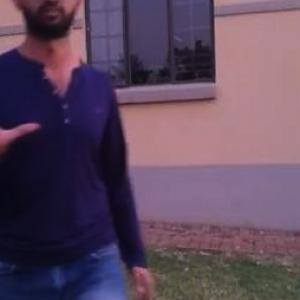follow_hand: (0, 70, 45, 179)
